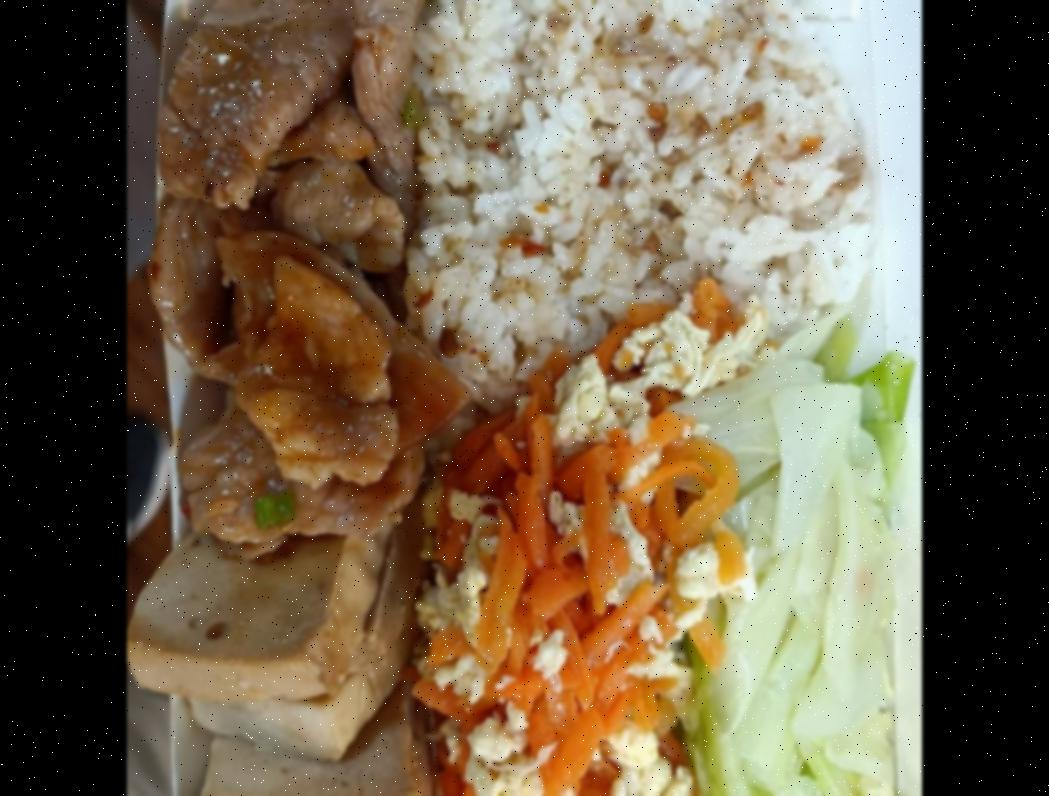big grilled chicken leg: (154, 0, 902, 796)
big herbal chicken leg: (407, 0, 875, 423)
braised fish fillet: (422, 311, 747, 796), (681, 346, 907, 796), (128, 515, 439, 796)
braised pork: (156, 0, 437, 551)
